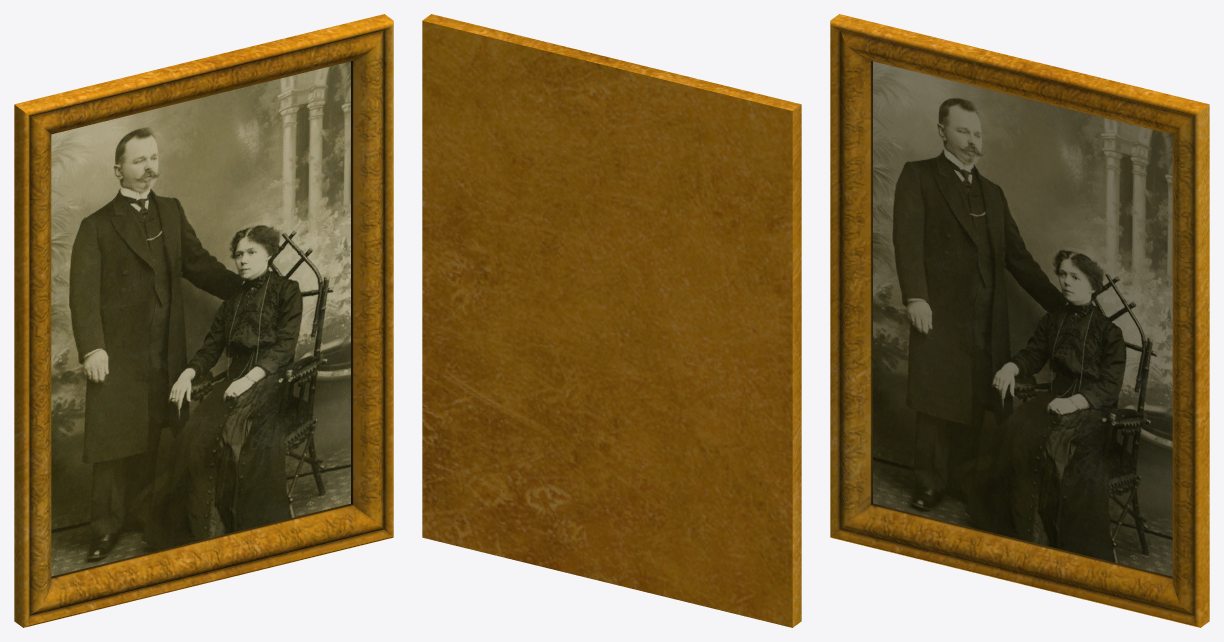
The model's file is rem_painting02.dae.
3 views of the same model, side by side, from view 1: azimuth 30°, elevation 25°; view 2: azimuth 150°, elevation 25°; view 3: azimuth 330°, elevation 25° (orthographic).
Parts seen in each view (by area): view 1: painting_image02, painting_frame02; view 2: painting_frame02; view 3: painting_image02, painting_frame02.
Part boxes in pixels (x1=…): painting_image02: x1=51, y1=61, x2=350, y2=576; painting_frame02: x1=14, y1=14, x2=393, y2=627; painting_frame02: x1=422, y1=14, x2=801, y2=627; painting_image02: x1=873, y1=61, x2=1172, y2=576; painting_frame02: x1=830, y1=14, x2=1209, y2=627.
Bounding box in the file's own units: 1.8 × 2.4 × 0.0927.
